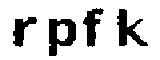f: (82, 5, 105, 55)
k: (114, 9, 150, 51)
p: (47, 15, 78, 58)
r: (8, 15, 40, 53)
